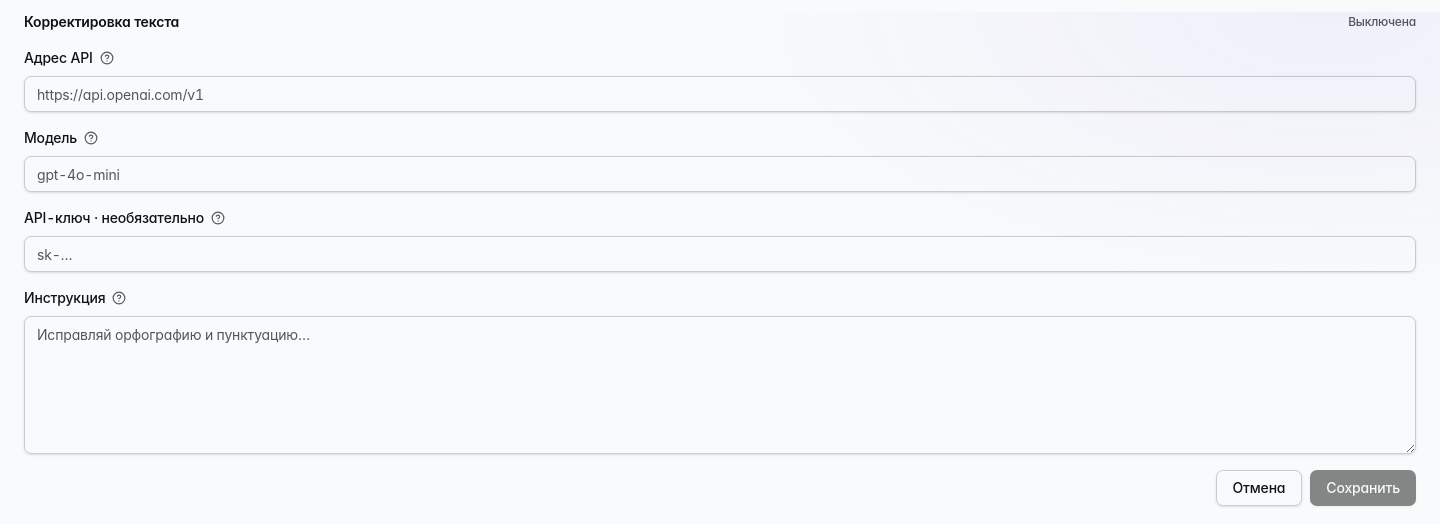
it: returns without edits and keeps the exit handshake alive on the main screen
This screenshot has width=1440, height=524.
Check: the field labelled "Модель" is shown, box [24, 156, 1416, 192]
Step 1. Click the button "Отмена" → (1259, 488), box [1216, 470, 1302, 506]
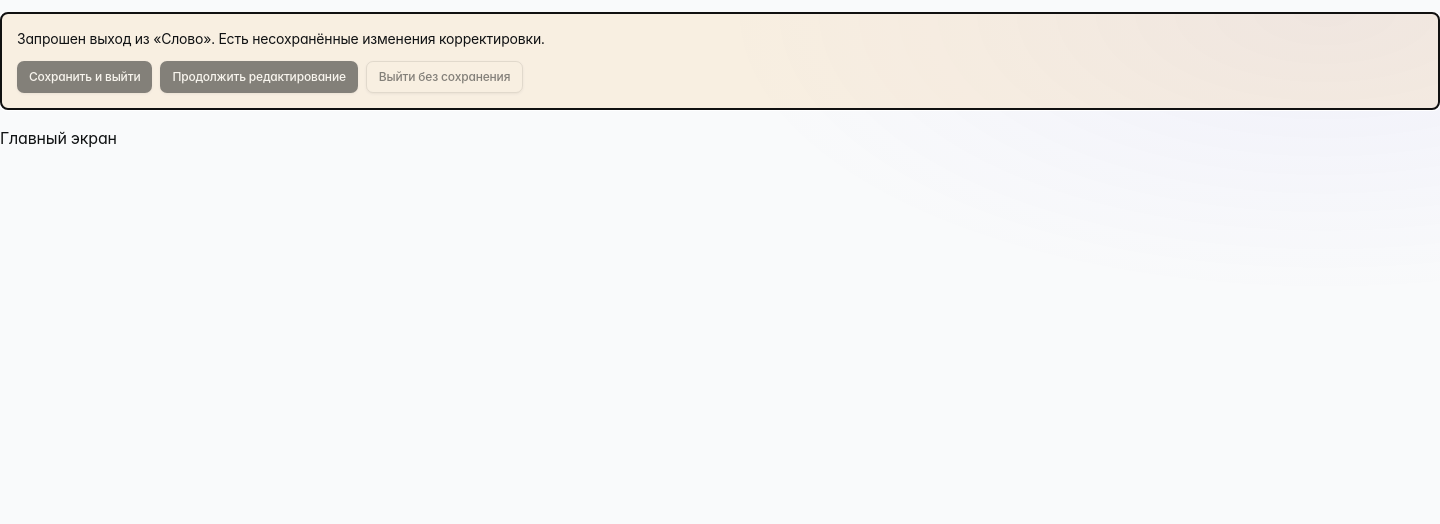
Check: the text "Главный экран" is shown, box [0, 128, 117, 148]
